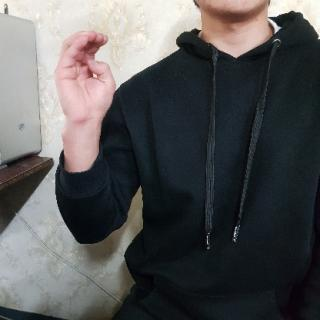JEEM: (55, 28, 125, 131)
